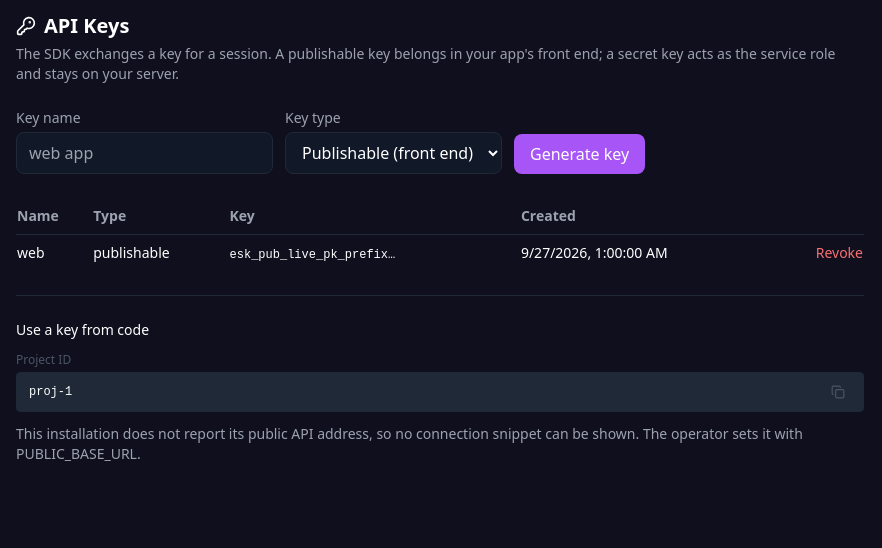
Test: SDK keys › a failed revoke is reported, with a fallback when auth gives no reason
The width and height of the screenshot is (882, 548).
Click the button "Revoke" at (839, 253), box [816,243,863,263]
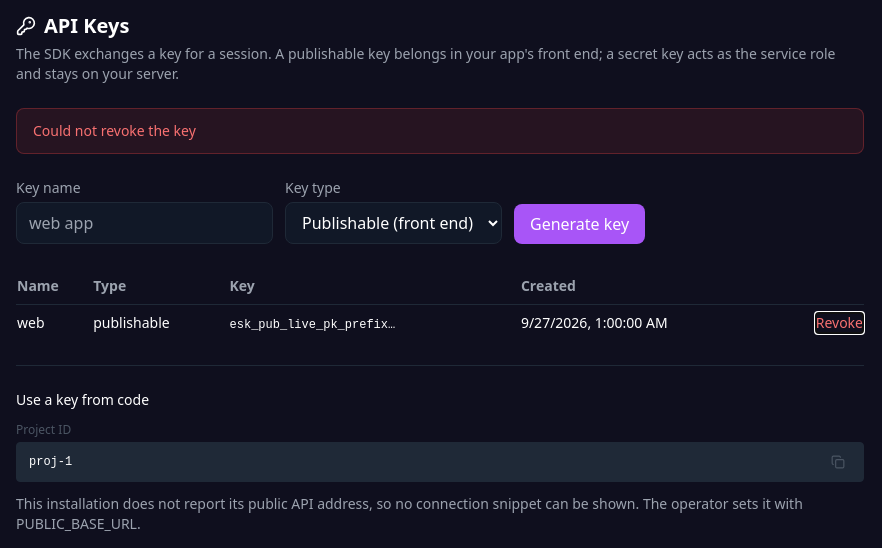
Expected: the text "Could not revoke the key" is shown, [16,108,864,154]
